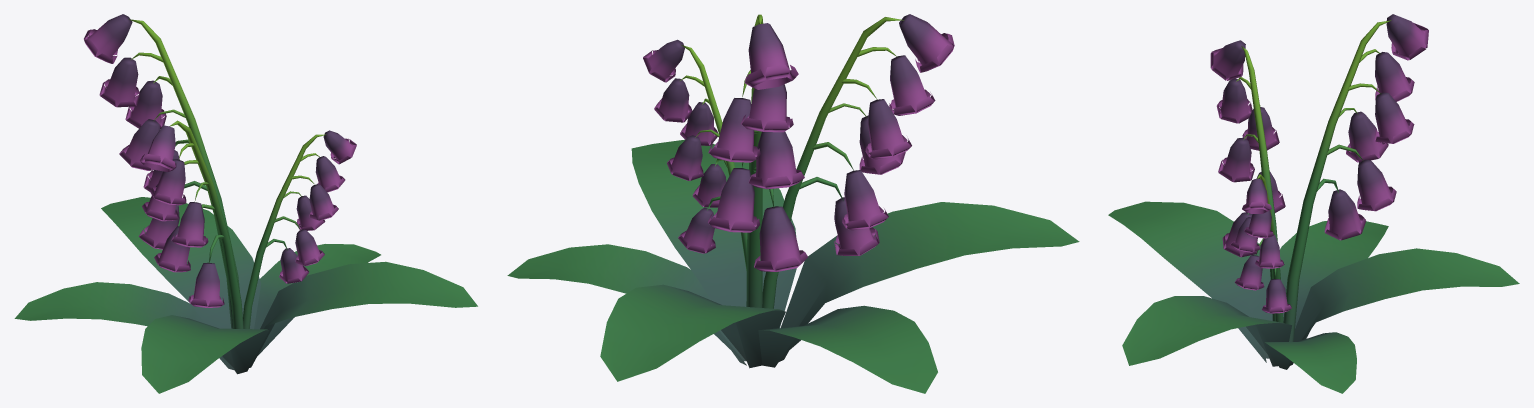
The model's file is flower5.glb.
The picture shows the model from 3 angles, left to right: view 1: azimuth 30°, elevation 25°; view 2: azimuth 150°, elevation 25°; view 3: azimuth 270°, elevation 25°; orthographic projection. The views are drawn at different scales.
Visible parts, largest first — view 1: Flower.005; view 2: Flower.005; view 3: Flower.005.
Part boxes in pixels (x1,y1,x2,y2): Flower.005: [14, 14, 477, 393]; Flower.005: [507, 14, 1079, 393]; Flower.005: [1108, 14, 1519, 393].
Bounding box in the file's own units: 3.65 × 3.27 × 3.82.
1 material, 1 textured.
